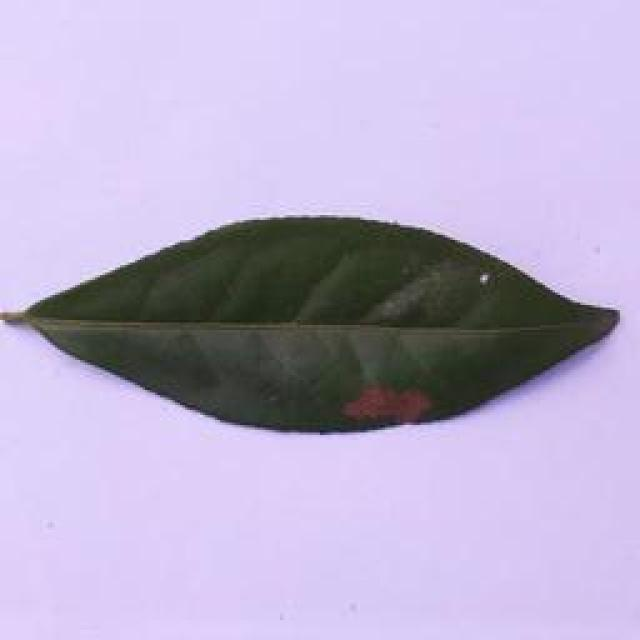Gray Blight: (0, 213, 625, 438)
